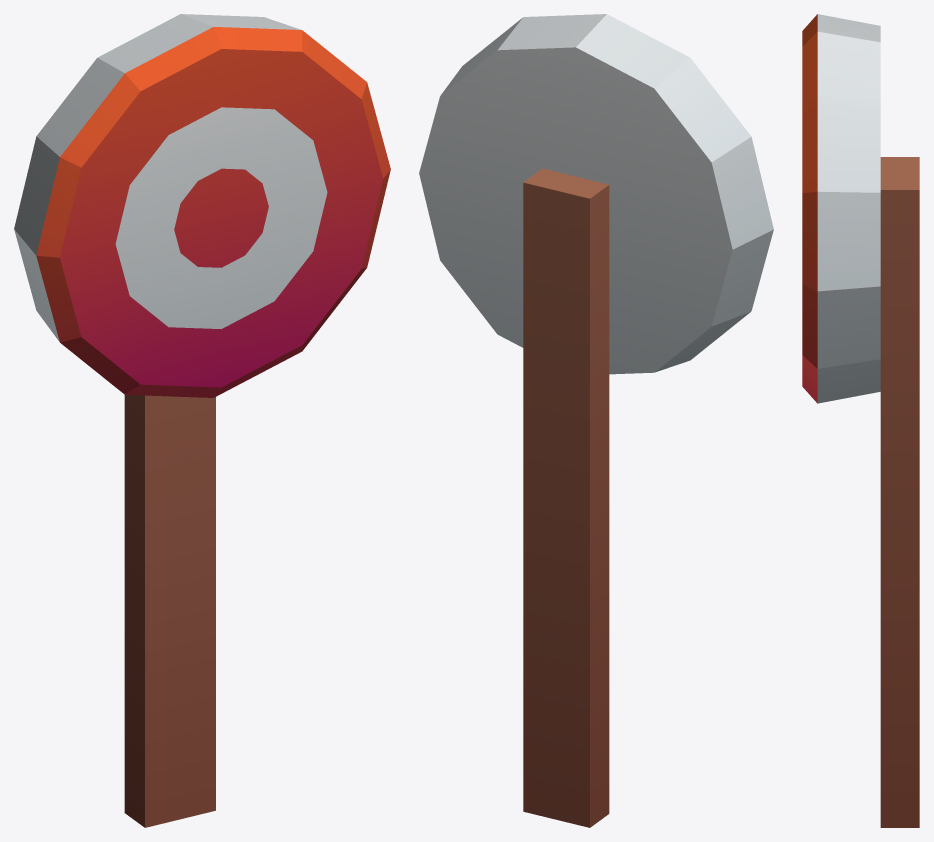
The model's file is target_small.glb.
The picture shows the model from 3 angles, left to right: view 1: azimuth 30°, elevation 25°; view 2: azimuth 150°, elevation 25°; view 3: azimuth 270°, elevation 25°; orthographic projection. The views are drawn at different scales.
Visible parts, largest first — view 1: target_small; view 2: target_small; view 3: target_small.
Part boxes in pixels (<box>): target_small: <box>14,14,390,827</box>; target_small: <box>419,14,773,827</box>; target_small: <box>802,14,919,827</box>.
Size of the model in its own units: 0.5 by 1.1 by 0.15.
Materials: 1 (1 with a texture image).
